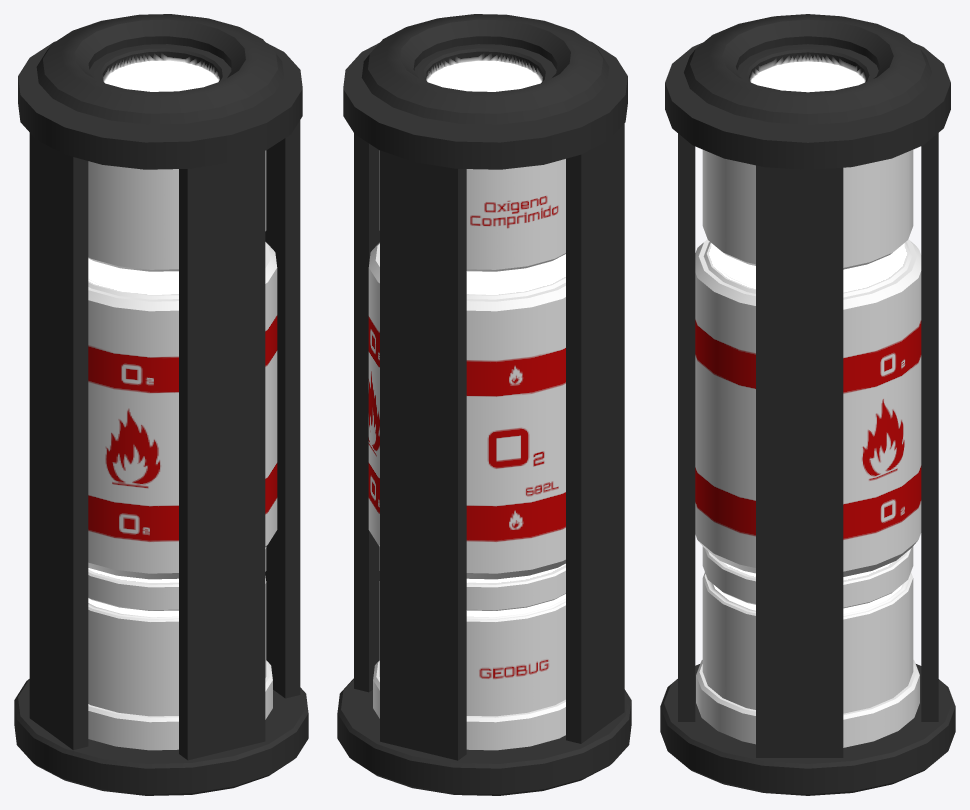
File: lab_oxigeno.fbx
3 renders of one model, left to right at view 1: azimuth 30°, elevation 25°; view 2: azimuth 150°, elevation 25°; view 3: azimuth 270°, elevation 25°, orthographic.
Visible parts, largest first — view 1: lab_oxigen; view 2: lab_oxigen; view 3: lab_oxigen.
Part boxes in pixels (left/top/right/bottom): lab_oxigen: left=14, top=14, right=308, bottom=795; lab_oxigen: left=337, top=14, right=631, bottom=795; lab_oxigen: left=660, top=14, right=955, bottom=795.
Bounding box in the file's own units: 41.79 × 106 × 41.79.
Materials: 1 (1 with a texture image).
